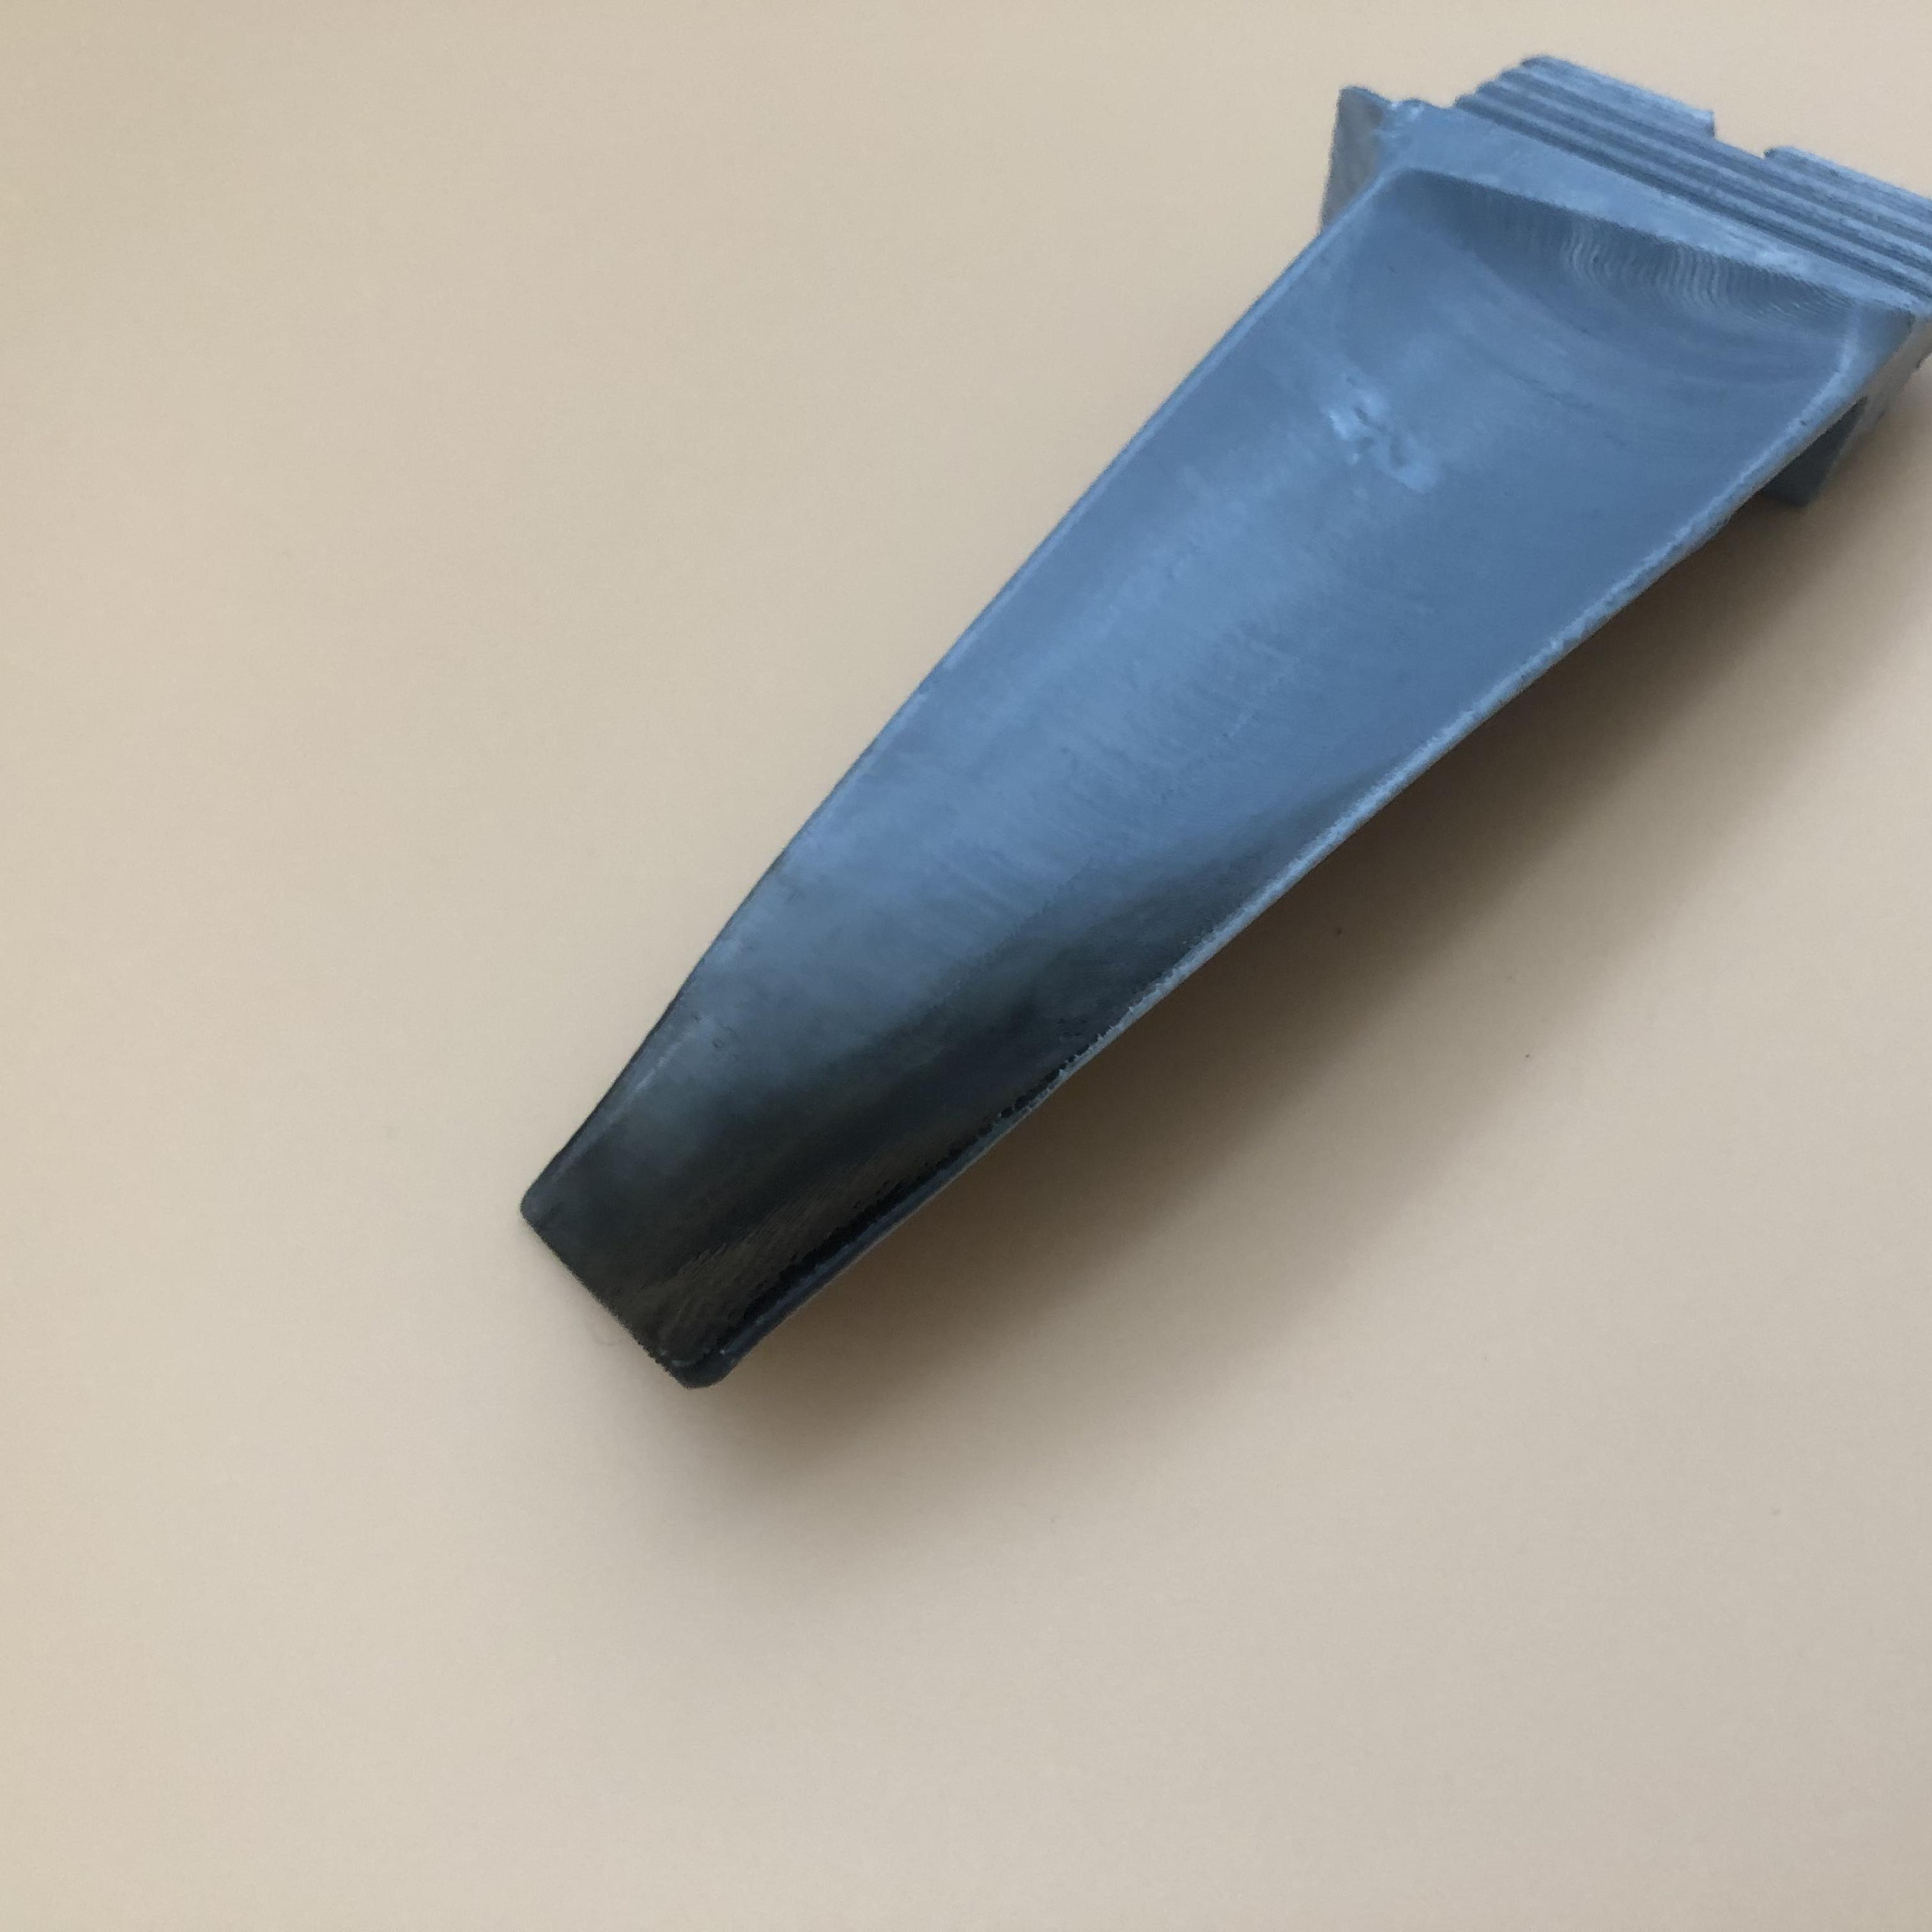ablation: (586, 1093, 952, 1355)
